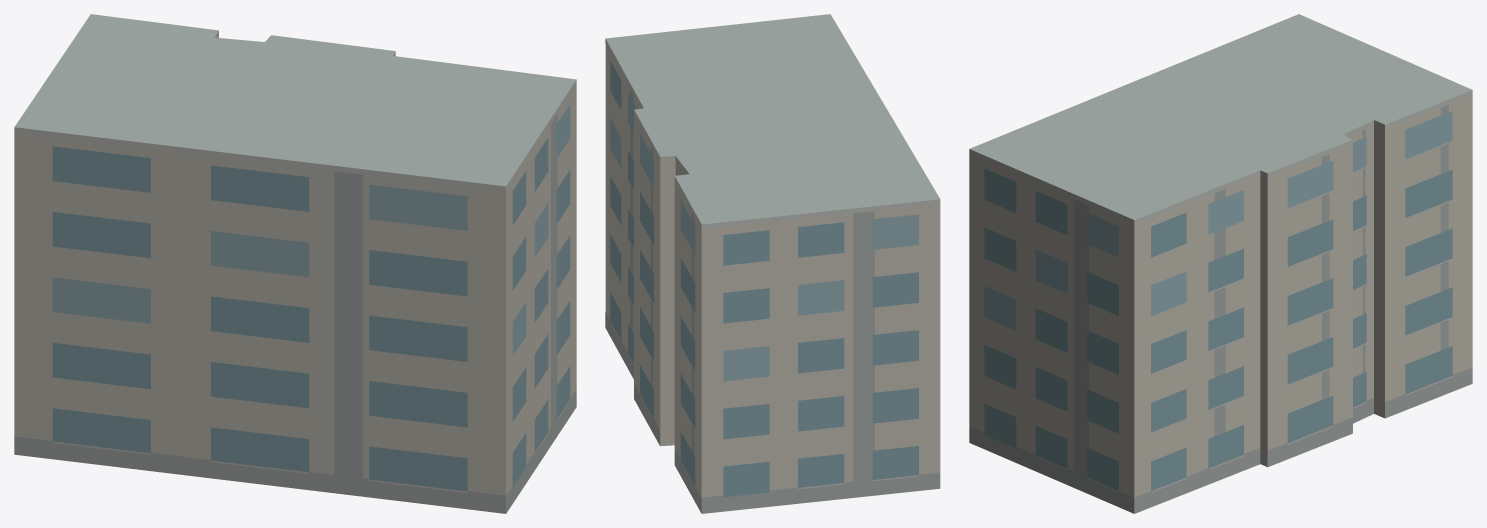
The model's file is survey-upis-32569433.glb.
3 renders of one model, left to right at view 1: azimuth 30°, elevation 25°; view 2: azimuth 150°, elevation 25°; view 3: azimuth 270°, elevation 25°, orthographic. The views are drawn at different scales.
Visible parts, largest first — view 1: survey-upis-32569433.tmp; view 2: survey-upis-32569433.tmp; view 3: survey-upis-32569433.tmp.
Part boxes in pixels (x1=…): survey-upis-32569433.tmp: x1=14, y1=14, x2=576, y2=513; survey-upis-32569433.tmp: x1=605, y1=14, x2=940, y2=513; survey-upis-32569433.tmp: x1=969, y1=14, x2=1472, y2=513.
Bounding box in the file's own units: 21.97 × 14.6 × 22.68.
